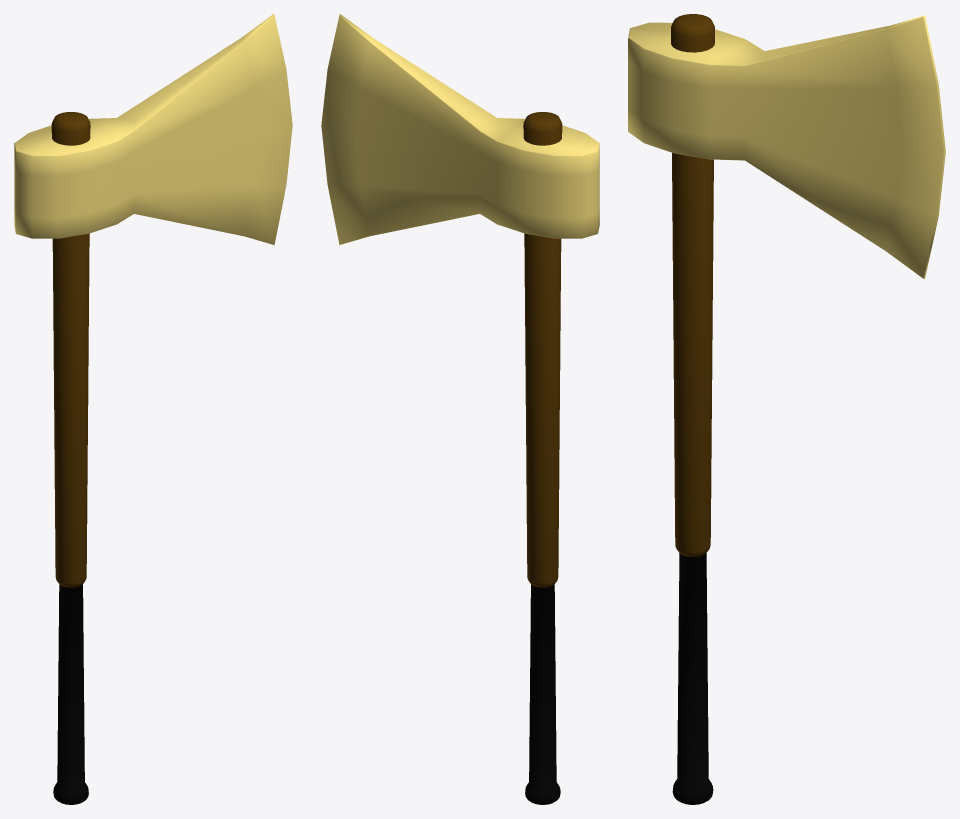
Rendered from OneHand_Axe_Gold.fbx.
3 renders of one model, left to right at view 1: azimuth 30°, elevation 25°; view 2: azimuth 150°, elevation 25°; view 3: azimuth 330°, elevation 25°, orthographic. The views are drawn at different scales.
Parts seen in each view (by area): view 1: OneHand_Axe_Gold; view 2: OneHand_Axe_Gold; view 3: OneHand_Axe_Gold.
Part boxes in pixels (x1,y1,x2,y2): OneHand_Axe_Gold: (14,14,292,804); OneHand_Axe_Gold: (321,14,599,804); OneHand_Axe_Gold: (628,14,945,804).
Bounding box in the file's own units: 309 × 788 × 69.54.
